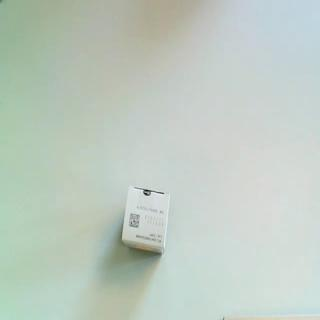xanor2mg: (121, 183, 173, 260)
